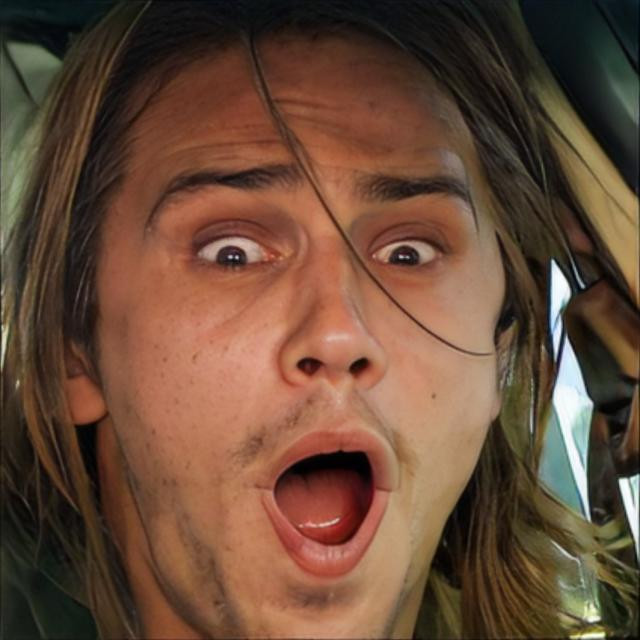Fear: (98, 12, 500, 640)
